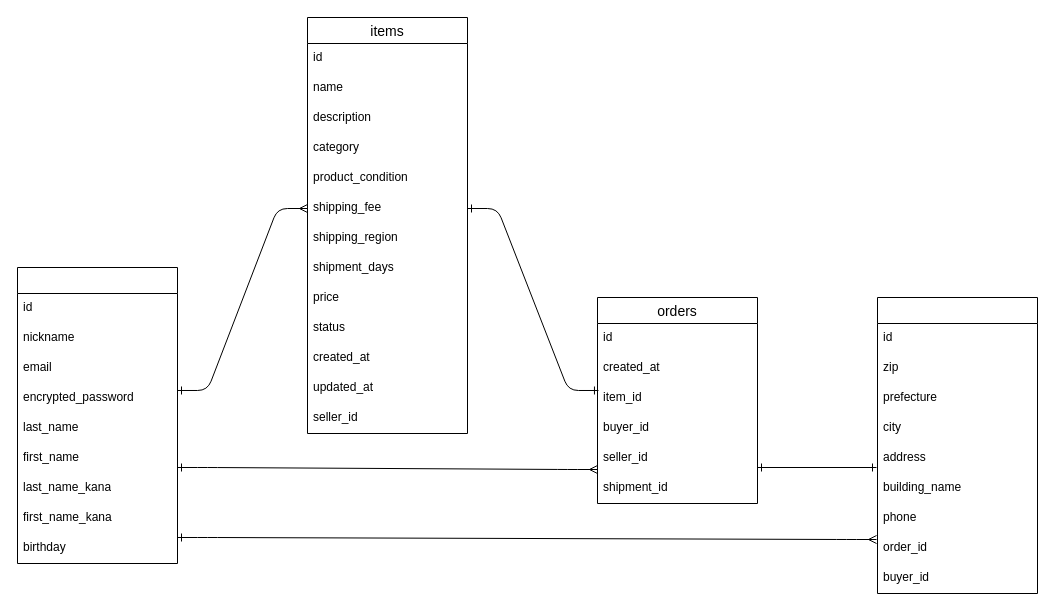
The diagram is 1055 pixels wide and 614 high, and some of its shapes have lost their labels. Here are the shapes that lost their labels. From the top down, the box of each, then its label:
(16, 266, 178, 564): users
(876, 296, 1038, 594): shipments
